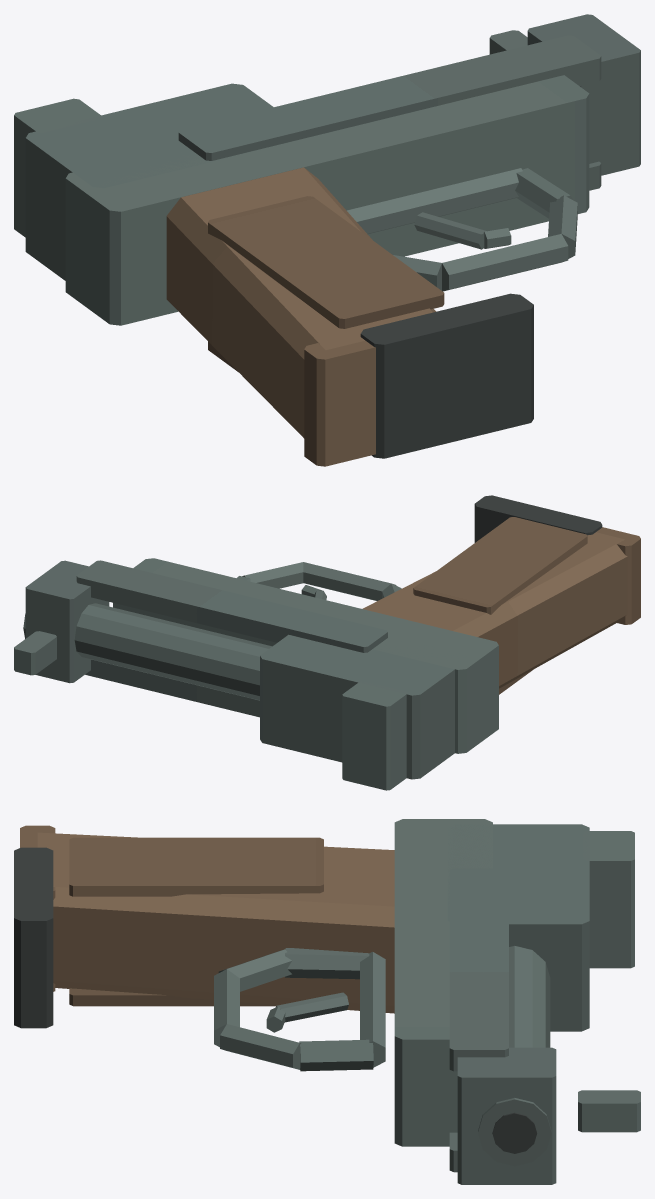
The model's file is weapon-beretta-1934.glb.
3 views of the same model, one above another, from view 1: azimuth 30°, elevation 25°; view 2: azimuth 150°, elevation 25°; view 3: azimuth 270°, elevation 25° (orthographic). The views are drawn at different scales.
Parts seen in each view (by area): view 1: weapon-beretta-1934/lower-frame, weapon-beretta-1934/eight-sided-grip, weapon-beretta-1934/forward-grip-heel, weapon-beretta-1934/rear-slide, weapon-beretta-1934/independent-grip-panels-left, weapon-beretta-1934/open-slide-side-rail--1, weapon-beretta-1934/eight-sided-grip-heel, weapon-beretta-1934/front-slide-band, weapon-beretta-1934/hollow-trigger-guard-1, weapon-beretta-1934/hollow-trigger-guard-4, weapon-beretta-1934/rear-sight, weapon-beretta-1934/hollow-trigger-guard-2 (+4 smaller); view 2: weapon-beretta-1934/rear-slide, weapon-beretta-1934/eight-sided-grip, weapon-beretta-1934/lower-frame, weapon-beretta-1934/open-slide-side-rail--1, weapon-beretta-1934/barrel-in-open-slide, weapon-beretta-1934/independent-grip-panels-left, weapon-beretta-1934/rear-sight, weapon-beretta-1934/front-slide-band, weapon-beretta-1934/open-slide-side-rail-1, weapon-beretta-1934/forward-grip-heel, weapon-beretta-1934/hollow-trigger-guard-4, weapon-beretta-1934/eight-sided-grip-heel (+2 smaller); view 3: weapon-beretta-1934/eight-sided-grip, weapon-beretta-1934/lower-frame, weapon-beretta-1934/rear-slide, weapon-beretta-1934/independent-grip-panels-left, weapon-beretta-1934/open-slide-side-rail--1, weapon-beretta-1934/front-slide-band, weapon-beretta-1934/forward-grip-heel, weapon-beretta-1934/rear-sight, weapon-beretta-1934/barrel-in-open-slide, weapon-beretta-1934/front-sight, weapon-beretta-1934/barrel-in-open-slide-end-rim, weapon-beretta-1934/hollow-trigger-guard-1 (+9 smaller).
Boxes of the visible parts, <box> form: weapon-beretta-1934/lower-frame: <box>65,75,589,325</box>; weapon-beretta-1934/eight-sided-grip: <box>166,167,435,438</box>; weapon-beretta-1934/forward-grip-heel: <box>360,293,533,458</box>; weapon-beretta-1934/rear-slide: <box>25,83,291,280</box>; weapon-beretta-1934/independent-grip-panels-left: <box>208,196,444,328</box>; weapon-beretta-1934/open-slide-side-rail--1: <box>178,35,601,160</box>; weapon-beretta-1934/eight-sided-grip-heel: <box>304,340,375,466</box>; weapon-beretta-1934/front-slide-band: <box>527,14,640,175</box>; weapon-beretta-1934/hollow-trigger-guard-1: <box>347,168,522,234</box>; weapon-beretta-1934/hollow-trigger-guard-4: <box>442,234,568,291</box>; weapon-beretta-1934/rear-sight: <box>14,98,101,237</box>; weapon-beretta-1934/hollow-trigger-guard-2: <box>515,168,573,218</box>; weapon-beretta-1934/rear-slide: <box>260,634,466,779</box>; weapon-beretta-1934/eight-sided-grip: <box>362,532,627,688</box>; weapon-beretta-1934/lower-frame: <box>113,558,498,753</box>; weapon-beretta-1934/open-slide-side-rail--1: <box>76,560,387,652</box>; weapon-beretta-1934/barrel-in-open-slide: <box>74,603,271,700</box>; weapon-beretta-1934/independent-grip-panels-left: <box>413,517,587,614</box>; weapon-beretta-1934/rear-sight: <box>342,682,406,790</box>; weapon-beretta-1934/front-slide-band: <box>25,560,109,683</box>; weapon-beretta-1934/open-slide-side-rail-1: <box>85,659,259,717</box>; weapon-beretta-1934/forward-grip-heel: <box>474,495,602,542</box>; weapon-beretta-1934/hollow-trigger-guard-4: <box>303,562,396,600</box>; weapon-beretta-1934/eight-sided-grip-heel: <box>596,527,640,624</box>; weapon-beretta-1934/eight-sided-grip: <box>37,832,394,1013</box>; weapon-beretta-1934/lower-frame: <box>394,819,492,1146</box>; weapon-beretta-1934/rear-slide: <box>447,824,589,1031</box>; weapon-beretta-1934/independent-grip-panels-left: <box>69,837,323,896</box>; weapon-beretta-1934/open-slide-side-rail--1: <box>449,868,508,1071</box>; weapon-beretta-1934/front-slide-band: <box>457,1047,556,1184</box>; weapon-beretta-1934/forward-grip-heel: <box>14,847,53,1028</box>; weapon-beretta-1934/rear-sight: <box>583,831,634,968</box>; weapon-beretta-1934/barrel-in-open-slide: <box>509,946,550,1047</box>; weapon-beretta-1934/front-sight: <box>578,1090,640,1132</box>; weapon-beretta-1934/barrel-in-open-slide-end-rim: <box>478,1098,551,1166</box>; weapon-beretta-1934/hollow-trigger-guard-1: <box>360,952,385,1067</box>.
Bounding box in the file's own units: 0.1566 × 0.0342 × 0.159.
3 materials, 3 textured.
